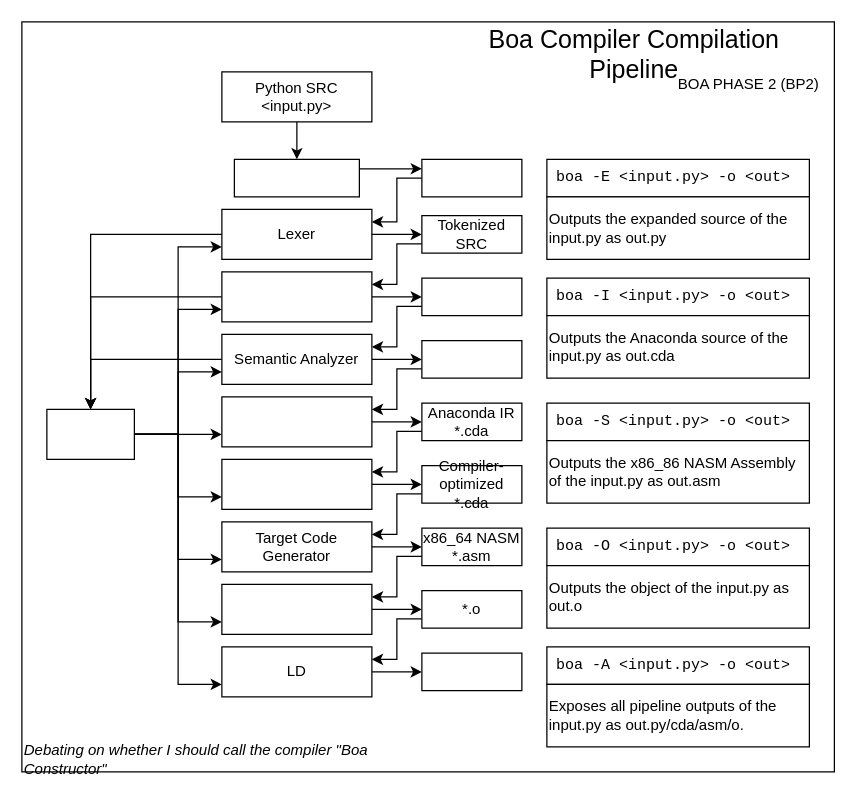
Some shapes in this 856 by 799 pixel diagram are drawn without their labels. Here are the shapes that lost their labels. From the top down, the centre of each, then its label:
At point (296, 177): "Preprocessor".
At point (471, 177): "Expanded SRC".
At point (296, 296): "Parser".
At point (471, 296): "AST".
At point (471, 358): "Annotated AST".
At point (90, 433): "Symbol Table".
At point (296, 421): "AIR Generator".
At point (296, 483): "Optimizer".
At point (296, 608): "NASM".
At point (471, 671): "ELF 64-bit executable".
